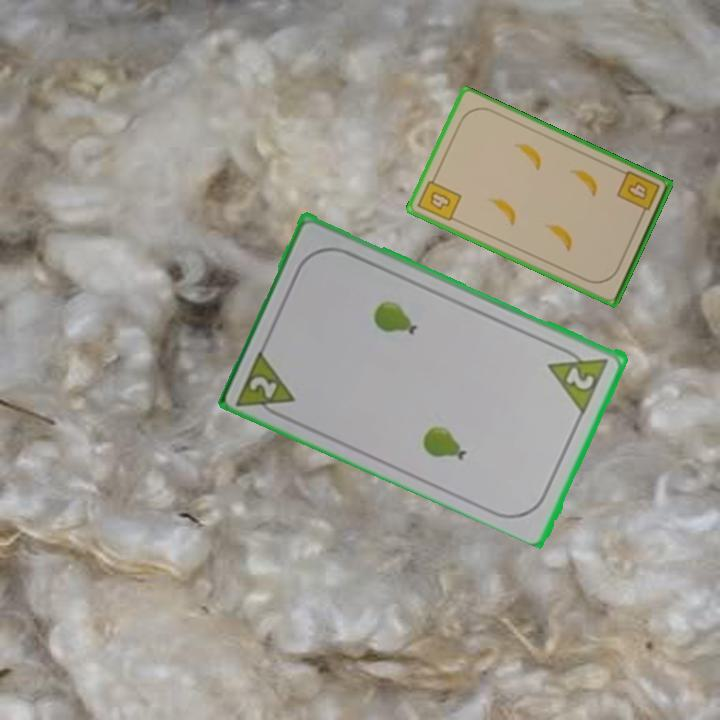2p: (233, 345, 299, 424), (545, 341, 613, 414)
4b: (414, 171, 464, 224), (613, 167, 662, 221)
